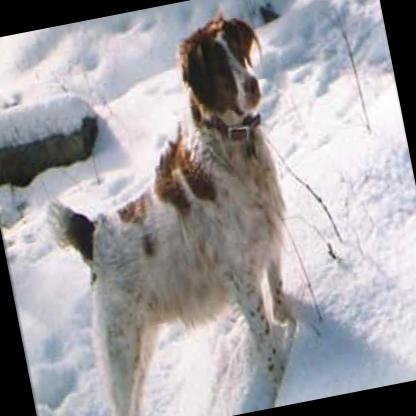Brittany_spaniel: (1, 2, 327, 416)
